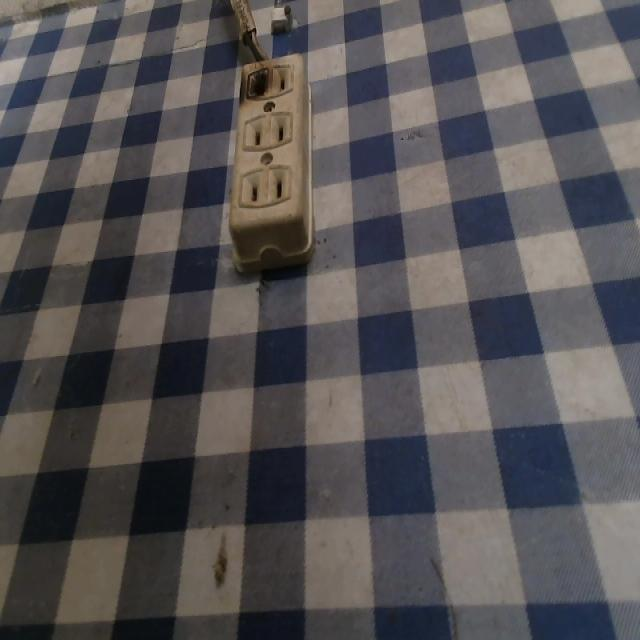-: (239, 56, 279, 104)
